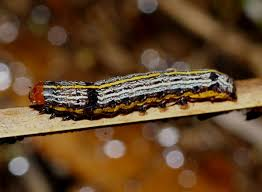Armyworm: (23, 64, 240, 125)
